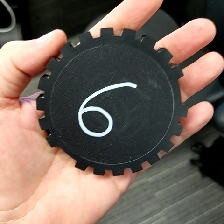gear: (34, 26, 188, 177)
missing: (46, 132, 88, 171), (170, 63, 189, 119)
